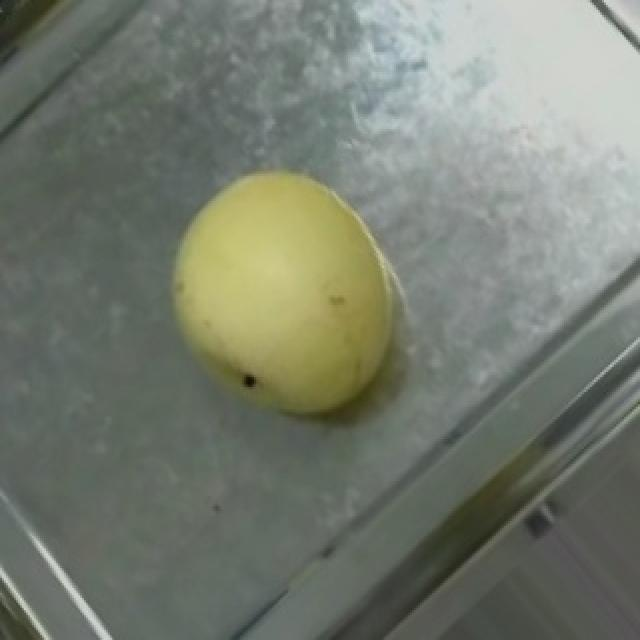Fruit: (124, 129, 454, 461)
